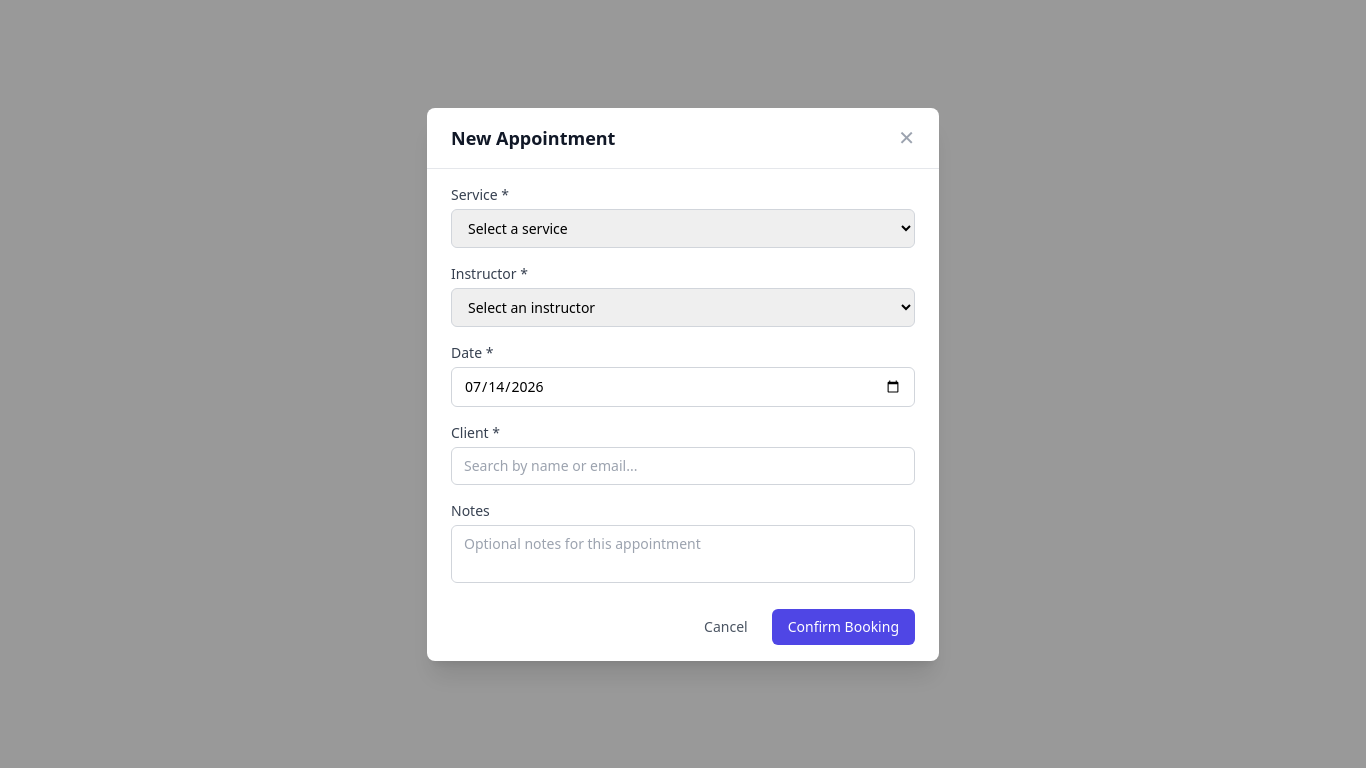
Test: BookAppointmentModal › shows a validation error when submitting without a client
Expected: the heading "New Appointment" is shown, [451,124,615,152]
Click the button "Confirm Booking" at (843, 626), box [772,608,915,644]
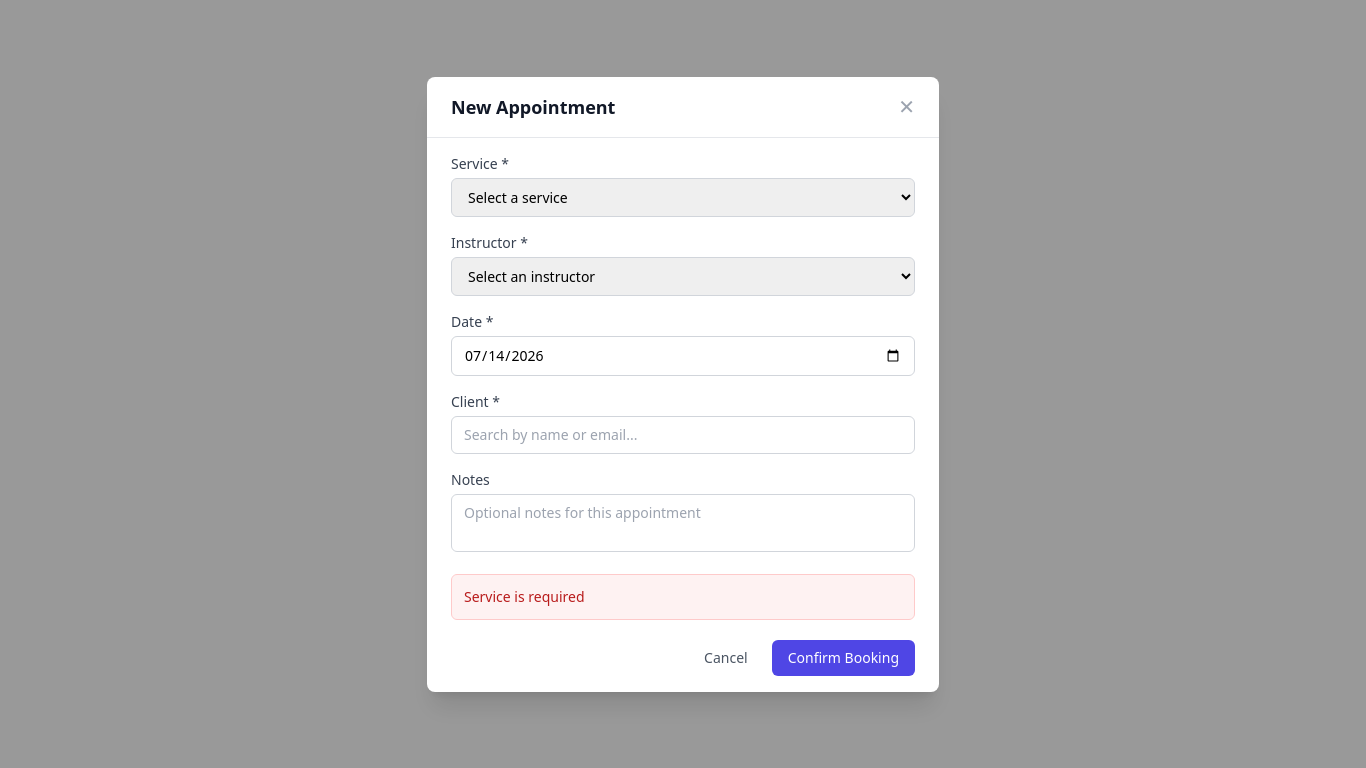
Result: the text "Service is required" is shown at [451,574,915,620]
